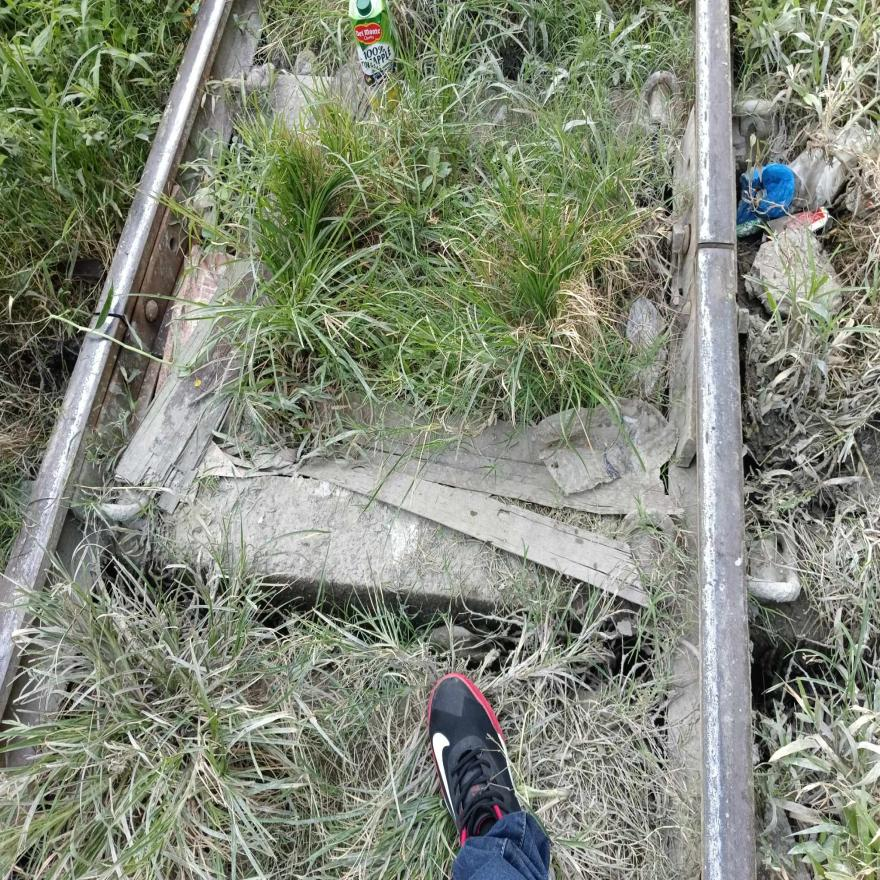railway-gap: (675, 197, 759, 300), (73, 264, 142, 364)
